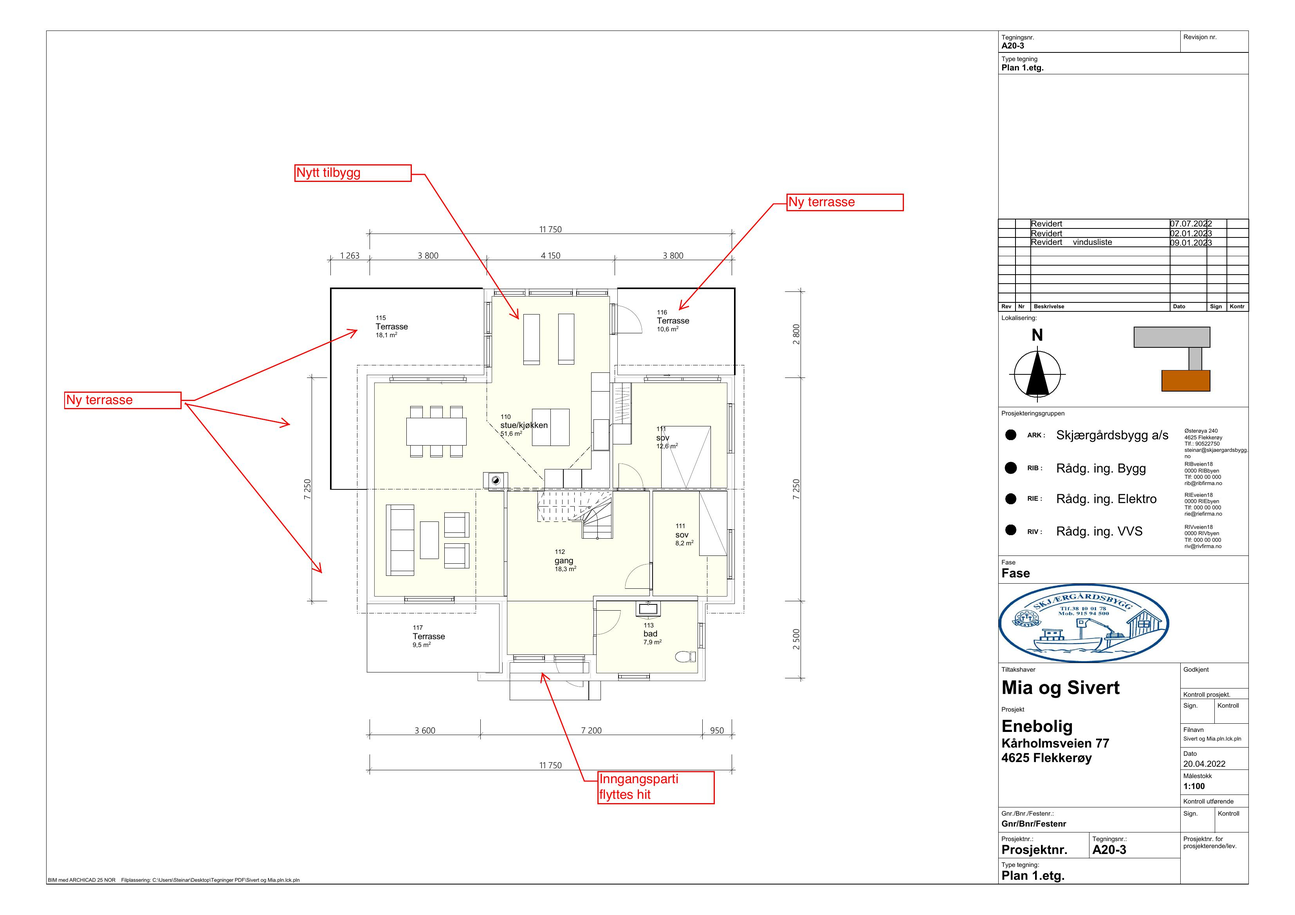plantegning: (329, 277, 750, 703)
tekst: (1000, 869, 1065, 883), (1000, 61, 1045, 73), (1183, 781, 1209, 790)
